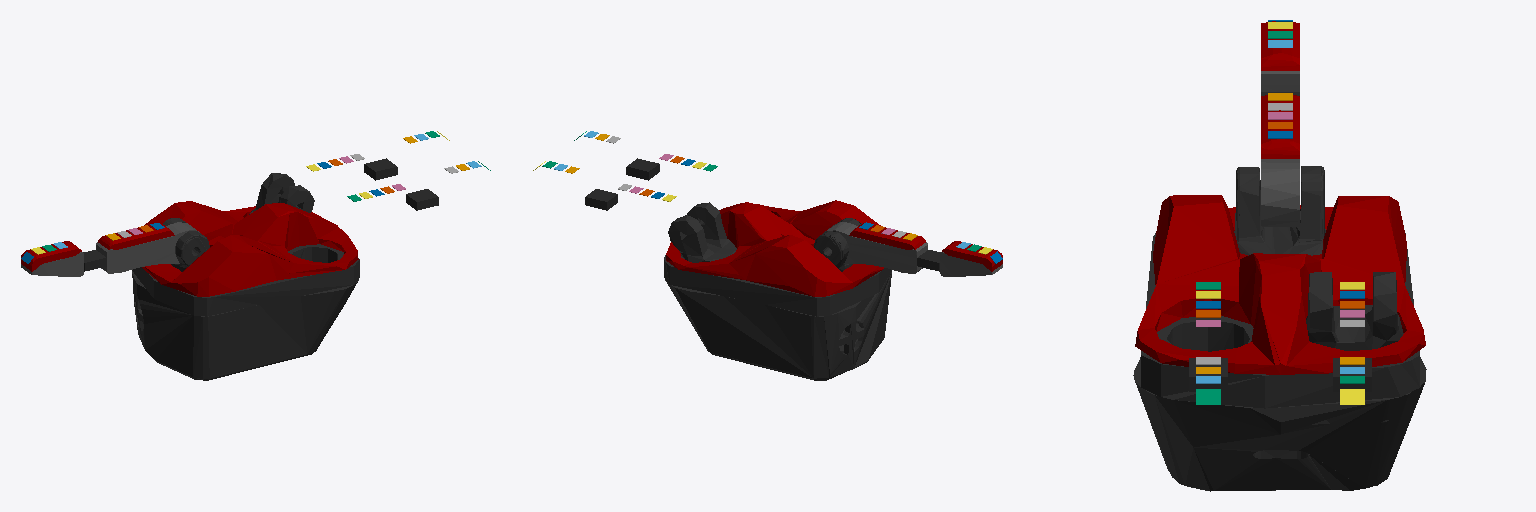
--- Facts derived from the render (not from the file) ---
3 views of the same robot in one strip: view 1: azimuth 30°, elevation 25°; view 2: azimuth 150°, elevation 25°; view 3: azimuth 270°, elevation 25° (orthographic).
Model rhr_flex_model with 53 links and 52 joints (35 revolute, 17 fixed), rooted at base_link, posed every joint at zero.
Visible links, largest first — view 1: base_link, pad, proximal_3, swivel_2, distal_3, proximal_pad_3, distal_pad_3, flex_link_2; view 2: base_link, pad, swivel_2, proximal_3, distal_3, proximal_pad_3, distal_pad_3, flex_link_1; view 3: base_link, pad, swivel_2, proximal_3, proximal_pad_3, distal_pad_3, distal_3, flex_link_1, flex_link_2.
Boxes of the visible links, x1,y1,x2,y2 form: base_link: (132, 218, 359, 380); pad: (142, 201, 358, 296); proximal_3: (96, 222, 199, 273); swivel_2: (249, 173, 314, 214); distal_3: (21, 252, 83, 276); proximal_pad_3: (98, 223, 174, 249); distal_pad_3: (21, 241, 81, 271); flex_link_2: (364, 158, 397, 180); base_link: (664, 218, 891, 380); pad: (666, 200, 883, 296); swivel_2: (668, 202, 736, 262); proximal_3: (825, 222, 927, 273); distal_3: (940, 252, 1002, 276); proximal_pad_3: (849, 223, 925, 249); distal_pad_3: (942, 241, 1002, 271); flex_link_1: (626, 158, 659, 180); base_link: (1133, 166, 1426, 491); pad: (1135, 195, 1425, 374); swivel_2: (1306, 272, 1403, 350); proximal_3: (1261, 159, 1299, 226); proximal_pad_3: (1261, 95, 1299, 158); distal_pad_3: (1261, 21, 1299, 70); distal_3: (1261, 71, 1299, 91); flex_link_1: (1189, 358, 1227, 391); flex_link_2: (1333, 358, 1371, 391).
Bounding box of the posed robot: 0.3219 × 0.1054 × 0.1002 m (x, y, z).
Meshes: 16 distinct files referenced, 7 mesh visuals loaded (7 binary STL); not drawn: 9 (reference not matched to a file when rendering).

The robot description file, URDF, robot "rhr_flex_model":
<?xml version="1.0" ?>

<robot name="rhr_flex_model">

  <link name="flex_link_1">
    <visual>
      <origin xyz="0.008 0 0"/>
      <geometry>
        <box size="0.016 0.014 0.006"/>
      </geometry>
      <material name="dark gray">
        <color rgba="0.2 0.2 .2 1"/>
      </material>
    </visual>

    <inertial>
      <origin xyz="0.008 0 0"/>
      <mass value="0.002688"/>
      <inertia ixx="0.000000051968" ixy="0.0" ixz="0.0" iyy="0.000000065408" iyz="0.0" izz="0.000000101248"/>
    </inertial>
    <collision>
      <origin xyz="0.008 0 0"/>
      <geometry>
        <box size="0.016 0.014 0.006"/>
      </geometry>
    </collision>
  </link>
  <link name="flex_link_2">
    <visual>
      <origin xyz="0.008 0 0"/>
      <geometry>
        <box size="0.016 0.014 0.006"/>
      </geometry>
      <material name="dark gray">
        <color rgba="0.2 0.2 .2 1"/>
      </material>
    </visual>
    <!-- Mabel -->
    <inertial>
      <origin xyz="0.008 0 0"/>
      <mass value="0.002688"/>
      <inertia ixx="0.000000051968" ixy="0.0" ixz="0.0" iyy="0.000000065408" iyz="0.0" izz="0.000000101248"/>
    </inertial>
    <!-- Mabel -->
    <collision>
      <origin xyz="0.008 0 0"/>
      <geometry>
        <box size="0.016 0.014 0.006"/>
      </geometry>
    </collision>
  </link>
  <link name="flex_link_3">
    <visual>
      <origin xyz="0.008 0 0"/>
      <geometry>
        <box size="0.016 0.014 0.006"/>
      </geometry>
      <material name="dark gray">
        <color rgba="0.2 0.2 .2 1"/>
      </material>
    </visual>
    <!-- Mabel -->
    <inertial>
      <origin xyz="0.008 0 0"/>
      <mass value="0.002688"/>
      <inertia ixx="0.000000051968" ixy="0.0" ixz="0.0" iyy="0.000000065408" iyz="0.0" izz="0.000000101248"/>
    </inertial>
    <!-- Mabel -->
    <collision>
      <origin xyz="0.008 0 0"/>
      <geometry>
        <box size="0.016 0.014 0.006"/>
      </geometry>
    </collision>
  </link>
  <joint name="flex_joint_1" type="fixed">
    <parent link="proximal_1"/>
    <child link="flex_link_1"/>
    <origin xyz="0.06 0 0.003"/>
    <axis xyz="0 -1 0"/>
  </joint>
  <joint name="flex_joint_2" type="fixed">
    <parent link="proximal_2"/>
    <child link="flex_link_2"/>
    <origin xyz="0.06 0 0.003"/>
    <axis xyz="0 -1 0"/>
  </joint>
  <joint name="flex_joint_3" type="fixed">
    <parent link="proximal_3"/>
    <child link="flex_link_3"/>
    <origin xyz="0.06 0 0.003"/>
    <axis xyz="0 -1 0"/>
  </joint>
  <link name="base_link">
    <visual>
      <origin rpy="0 0 0" xyz="0 0 0"/>
      <geometry>
        <mesh filename="package://meshes/base_link.stl"/>
      </geometry>
      <material name="">
        <color rgba="0.22 0.22 0.22 1"/>
      </material>
    </visual>
    <collision>
      <origin rpy="0 0 0" xyz="0.014 0 0.051"/>
      <geometry>
        <box size="0.128 0.099 0.085"/>
      </geometry>
    </collision>
    <!-- Mabel -->
    <inertial>
      <origin xyz="0.006633 -0.000192 0.042664"/>
      <!-- Mesh Volume from MeshLab -->
      <mass value="0.271197"/>
      <inertia ixx="0.00035015" ixy="-0.00000237" ixz="-0.00000830" iyy="0.00052174" iyz="-0.00000051" izz="0.00061823"/>
    </inertial>
  </link>
  <link name="pad">
    <visual>
      <origin rpy="0 0 0" xyz="0 0 0"/>
      <geometry>
        <mesh filename="package://meshes/pad.stl"/>
      </geometry>
      <material name="">
        <color rgba="0.6 0.0 0.0 1"/>
        <!--    <color rgba="0.686 0.0706 0.8039 1"/> -->
      </material>
    </visual>
    <!-- Mabel -->
    <collision>
      <origin rpy="0 0 0" xyz="0 0 0"/>
      <geometry>
        <mesh filename="package://meshes/pad.stl"/>
      </geometry>
    </collision>
    <!-- Mabel -->
    <inertial>
      <!-- Center of Mass from MeshLab -->
      <origin xyz="0.000001 0.008858 0.013059"/>
      <!-- Mesh Volume from MeshLab -->
      <mass value="0.113819"/>
      <inertia ixx="0.00010653" ixy="-0.00000000" ixz="-0.00000001" iyy="0.00018331" iyz="-0.00000149" izz="0.00008642"/>
    </inertial>
  </link>
  <joint name="pad_joint" type="fixed">
    <origin rpy="1.5707963267949 5.55111512312578E-17 -1.5707963267949" xyz="0.02 0 0.063"/>
    <parent link="base_link"/>
    <child link="pad"/>
    <axis xyz="0 0 0"/>
  </joint>
  <link name="swivel_1">
    <visual>
      <origin rpy="0 0 0" xyz="0 0 0"/>
      <geometry>
        <mesh filename="package://meshes/swivel_1.stl"/>
      </geometry>
      <material name="">
        <color rgba="0.22 0.22 0.22 1"/>
      </material>
    </visual>
    <!-- Mabel -->
    <collision>
      <origin rpy="0 0 0" xyz="0 0 0"/>
      <geometry>
        <mesh filename="package://meshes/swivel_1.stl"/>
      </geometry>
    </collision>
    <!-- Mabel -->
    <inertial>
      <!-- Center of Mass from MeshLab -->
      <origin xyz="0.005259 -0.000001 0.011236"/>
      <!-- Mesh Volume from MeshLab -->
      <mass value="0.012584"/>
      <inertia ixx="0.00000232" ixy="0.00000000" ixz="-0.00000041" iyy="0.00000177" iyz="0.00000000" izz="0.00000237"/>
    </inertial>
  </link>
  <joint name="preshape_1" type="revolute">
    <!-- Mabel: None of the joints are really continuous. They should all be
      revolute.-->
    <!--type="continuous"-->
    <origin rpy="6.75550818663469E-16 1.97993848419069E-16 -2.77555756156289E-16" xyz="0.0503973683071414 -0.026 0.063"/>
    <parent link="base_link"/>
    <child link="swivel_1"/>
    <axis xyz="0 0 -1"/>
    <!-- Mabel. Limits from reflex/src/reflex/reflex_base_services.py PRESHAPE_MAX -->
    <limit effort="2.5" lower="0" upper="1.6" velocity="1.0"/>
  </joint>
  <link name="proximal_1">
    <visual>
      <origin rpy="0 0 0" xyz="0 0 0"/>
      <geometry>
        <mesh filename="package://meshes/proximal_1.stl"/>
      </geometry>
      <material name="">
        <color rgba="0.35 0.35 0.35 1"/>
      </material>
    </visual>
    <!-- Mabel -->
    <collision>
      <origin rpy="0 0 0" xyz="0 0 0"/>
      <geometry>
        <mesh filename="package://meshes/proximal_1.stl"/>
      </geometry>
    </collision>
    <!-- Mabel -->
    <inertial>
      <!-- Center of Mass from MeshLab -->
      <origin xyz="0.024094 0.000000 0.000819"/>
      <!-- Mesh Volume from MeshLab -->
      <mass value="0.017012"/>
      <inertia ixx="0.00000076" ixy="-0.00000000" ixz="-0.00000023" iyy="0.00000735" iyz="-0.00000000" izz="0.00000714"/>
    </inertial>
  </link>
  <joint name="proximal_joint_1" type="revolute">
    <!--type="continuous"-->
    <origin rpy="-6.20039667432211E-16 2.40507565059625E-17 2.22044604925031E-16" xyz="0.01 0 0.0186"/>
    <parent link="swivel_1"/>
    <child link="proximal_1"/>
    <axis xyz="0 -1 0"/>
    <!-- Mabel -->
    <limit effort="2.5" lower="0" upper="3.14" velocity="1.0"/>
  </joint>
  <link name="proximal_pad_1">
    <visual>
      <origin rpy="0 0 0" xyz="0 0 0"/>
      <geometry>
        <mesh filename="package://meshes/proximal_pad_1.stl"/>
      </geometry>
      <material name="">
        <color rgba="0.6 0.0 0.0 1"/>
        <!--    <color rgba="0.686 0.0706 0.8039 1"/> -->
      </material>
    </visual>
    <!-- Mabel -->
    <collision>
      <origin rpy="0 0 0" xyz="0 0 0"/>
      <geometry>
        <mesh filename="package://meshes/proximal_pad_1.stl"/>
      </geometry>
    </collision>
    <!-- Mabel -->
    <inertial>
      <!-- Center of Mass from MeshLab -->
      <origin xyz="0.000000 0.012215 -0.034120"/>
      <!-- Mesh Volume from MeshLab -->
      <mass value="0.003393"/>
      <inertia ixx="0.00000057" ixy="-0.0" ixz="-0.0" iyy="0.00000061" iyz="0.0" izz="0.00000006"/>
    </inertial>
  </link>
  <joint name="prox1_pad_joint" type="fixed">
    <origin rpy="1.5707963267949 0 -1.5707963267949" xyz="0 0 0"/>
    <parent link="proximal_1"/>
    <child link="proximal_pad_1"/>
    <axis xyz="0 0 0"/>
  </joint>
  <link name="distal_1">
    <visual>
      <origin rpy="0 0 0" xyz="0 0 0"/>
      <geometry>
        <mesh filename="package://meshes/distal_1.stl"/>
      </geometry>
      <material name="">
        <color rgba="0.35 0.35 0.35 1"/>
      </material>
    </visual>
    <!-- Mabel -->
    <collision>
      <origin rpy="0 0 0" xyz="0 0 0"/>
      <geometry>
        <mesh filename="package://meshes/distal_1.stl"/>
      </geometry>
    </collision>
    <!-- Mabel -->
    <inertial>
      <!-- Center of Mass from MeshLab -->
      <origin xyz="0.015422 -0.000000 0.000877"/>
      <!-- Mesh Volume from MeshLab -->
      <mass value="0.005978"/>
      <inertia ixx="0.00000019" ixy="-0.0" ixz="-0.00000006" iyy="0.00000070" iyz="0.0" izz="0.00000071"/>
    </inertial>
  </link>
  <joint name="distal_joint_1" type="revolute">
    <!--type="continuous"-->
    <!--origin
      xyz="0.0760000000000001} 0 0.00250000000000002"
      rpy="0 0 0" />
    <parent
      link="proximal_1" /-->
    <!-- Mabel, after adding rigid link btw proximal and distal links. Since
       distal link cannot have two parents (violates SDF and Gazebo rules),
       flex link and proximal link cannot both be distal's parent. So we need
       to link in serial like so, not in parallel:
         proximal -> prox_to_flex_joint -> flex_link -> flex_to_distal_joint
           -> distal.
       We'll ust the distal_joint_# as the joint from flex to distal.
       Joint from prox to flex, and flex_link, are at top of file.
     -->
    <origin rpy="0 0 0" xyz="0.016 0 0.00250000000000002"/>
    <parent link="flex_link_1"/>
    <child link="distal_1"/>
    <axis xyz="0 -1 0"/>
    <!-- Mabel -->
    <limit effort="0.25" lower="0" upper="2.74" velocity="1.0"/>
  </joint>
  <link name="distal_pad_1">
    <visual>
      <origin rpy="0 0 0" xyz="0 0 0"/>
      <geometry>
        <mesh filename="package://meshes/distal_pad_1.stl"/>
      </geometry>
      <material name="">
        <color rgba="0.6 0.0 0.0 1"/>
        <!--    <color rgba="0.686 0.0706 0.8039 1"/> -->
      </material>
    </visual>
    <!-- Mabel -->
    <collision>
      <origin rpy="0 0 0" xyz="0 0 0"/>
      <geometry>
        <mesh filename="package://meshes/distal_pad_1.stl"/>
      </geometry>
    </collision>
    <!-- Mabel -->
    <inertial>
      <!-- Center of Mass from MeshLab -->
      <origin xyz="0.000000 0.011884 -0.097534"/>
      <!-- Mesh Volume from MeshLab -->
      <mass value="0.002782"/>
      <inertia ixx="0.00000030" ixy="-0.0" ixz="0.0" iyy="0.00000034" iyz="-0.00000002" izz="0.00000005"/>
    </inertial>
  </link>
  <joint name="dist1_pad_joint" type="fixed">
    <origin rpy="1.5707963267949 0 -1.5707963267949" xyz="-0.0760000000000001 0 -0.0025"/>
    <parent link="distal_1"/>
    <child link="distal_pad_1"/>
    <axis xyz="0 0 0"/>
  </joint>
  <link name="swivel_2">
    <visual>
      <origin rpy="0 0 0" xyz="0 0 0"/>
      <geometry>
        <mesh filename="package://meshes/swivel_2.stl"/>
      </geometry>
      <material name="">
        <color rgba="0.22 0.22 0.22 1"/>
      </material>
    </visual>
    <!-- Mabel -->
    <collision>
      <origin rpy="0 0 0" xyz="0 0 0"/>
      <geometry>
        <mesh filename="package://meshes/swivel_2.stl"/>
      </geometry>
    </collision>
    <!-- Mabel -->
    <inertial>
      <!-- Center of Mass from MeshLab -->
      <origin xyz="0.005259 -0.000001 0.011236"/>
      <!-- Mesh Volume from MeshLab -->
      <mass value="0.012584"/>
      <inertia ixx="0.00000232" ixy="0.0" ixz="-0.00000041" iyy="0.00000177" iyz="0.0" izz="0.00000237"/>
    </inertial>
  </link>
  <joint name="preshape_2" type="revolute">
    <!--type="continuous"-->
    <origin rpy="1.22459340959228E-15 -7.33448407631817E-16 -1.66533453693773E-16" xyz="0.0503973683071413 0.0259999999999999 0.063"/>
    <parent link="base_link"/>
    <child link="swivel_2"/>
    <axis xyz="0 0 -1"/>
    <!-- Mabel. Limits from reflex/src/reflex/reflex_base_services.py PRESHAPE_MAX -->
    <limit effort="2.5" lower="-1.6" upper="0" velocity="1.0"/>
  </joint>
  <link name="proximal_2">
    <visual>
      <origin rpy="0 0 0" xyz="0 0 0"/>
      <geometry>
        <mesh filename="package://meshes/proximal_2.stl"/>
      </geometry>
      <material name="">
        <color rgba="0.35 0.35 0.35 1"/>
      </material>
    </visual>
    <!-- Mabel -->
    <collision>
      <origin rpy="0 0 0" xyz="0 0 0"/>
      <geometry>
        <mesh filename="package://meshes/proximal_2.stl"/>
      </geometry>
    </collision>
    <!-- Mabel -->
    <inertial>
      <!-- Center of Mass from MeshLab -->
      <origin xyz="0.024094 0.000000 0.000819"/>
      <!-- Mesh Volume from MeshLab -->
      <mass value="0.017012"/>
      <inertia ixx="0.00000076" ixy="-0.0" ixz="-0.00000023" iyy="0.00000735" iyz="-0.0" izz="0.00000714"/>
    </inertial>
  </link>
  <joint name="proximal_joint_2" type="revolute">
    <!--type="continuous"-->
    <origin rpy="-1.16908225836102E-15 9.55493012556849E-16 1.11022302462515E-16" xyz="0.01 0 0.0186"/>
    <parent link="swivel_2"/>
    <child link="proximal_2"/>
    <axis xyz="0 -1 0"/>
    <!-- Mabel -->
    <limit effort="2.5" lower="0" upper="3.14" velocity="1.0"/>
  </joint>
  <link name="proximal_pad_2">
    <visual>
      <origin rpy="0 0 0" xyz="0 0 0"/>
      <geometry>
        <mesh filename="package://meshes/proximal_pad_2.stl"/>
      </geometry>
      <material name="">
        <color rgba="0.6 0.0 0.0 1"/>
        <!--    <color rgba="0.686 0.0706 0.8039 1"/> -->
      </material>
    </visual>
    <!-- Mabel -->
    <collision>
      <origin rpy="0 0 0" xyz="0 0 0"/>
      <geometry>
        <mesh filename="package://meshes/proximal_pad_2.stl"/>
      </geometry>
    </collision>
    <!-- Mabel -->
    <inertial>
      <!-- Center of Mass from MeshLab -->
      <origin xyz="0.000000 0.012215 -0.034120"/>
      <!-- Mesh Volume from MeshLab -->
      <mass value="0.003393"/>
      <inertia ixx="0.00000057" ixy="-0.0" ixz="-0.0" iyy="0.00000061" iyz="0.0" izz="0.00000006"/>
    </inertial>
  </link>
  <joint name="prox2_pad_joint" type="fixed">
    <origin rpy="1.5707963267949 0 -1.5707963267949" xyz="0 0 0"/>
    <parent link="proximal_2"/>
    <child link="proximal_pad_2"/>
    <axis xyz="0 0 0"/>
  </joint>
  <link name="distal_2">
    <visual>
      <origin rpy="0 0 0" xyz="0 0 0"/>
      <geometry>
        <mesh filename="package://meshes/distal_2.stl"/>
      </geometry>
      <material name="">
        <color rgba="0.35 0.35 0.35 1"/>
      </material>
    </visual>
    <!-- Mabel -->
    <collision>
      <origin rpy="0 0 0" xyz="0 0 0"/>
      <geometry>
        <mesh filename="package://meshes/distal_2.stl"/>
      </geometry>
    </collision>
    <!-- Mabel -->
    <inertial>
      <!-- Center of Mass from MeshLab -->
      <origin xyz="0.015422 -0.000000 0.000877"/>
      <!-- Mesh Volume from MeshLab -->
      <mass value="0.005978"/>
      <inertia ixx="0.00000019" ixy="-0.0" ixz="-0.00000006" iyy="0.00000070" iyz="0.0" izz="0.00000071"/>
    </inertial>
  </link>
  <joint name="distal_joint_2" type="revolute">
    <!--type="continuous"-->
    <!--origin
      xyz="0.0760000000000001 0 0.00249999999999997"
      rpy="0 0 0" />
    <parent
      link="proximal_2" /-->
    <!-- Mabel -->
    <origin rpy="0 0 0" xyz="0.016 0 0.00249999999999997"/>
    <parent link="flex_link_2"/>
    <child link="distal_2"/>
    <axis xyz="0 -1 0"/>
    <!-- Mabel -->
    <limit effort="0.25" lower="0" upper="2.74" velocity="1.0"/>
  </joint>
  <link name="distal_pad_2">
    <visual>
      <origin rpy="0 0 0" xyz="0 0 0"/>
      <geometry>
        <mesh filename="package://meshes/distal_pad_2.stl"/>
      </geometry>
      <material name="">
        <color rgba="0.6 0.0 0.0 1"/>
        <!--    <color rgba="0.686 0.0706 0.8039 1"/> -->
      </material>
    </visual>
    <!-- Mabel -->
    <collision>
      <origin rpy="0 0 0" xyz="0 0 0"/>
      <geometry>
        <mesh filename="package://meshes/distal_pad_2.stl"/>
      </geometry>
    </collision>
    <!-- Mabel -->
    <inertial>
      <!-- Center of Mass from MeshLab -->
      <origin xyz="0.000000 0.011884 -0.097534"/>
      <!-- Mesh Volume from MeshLab -->
      <mass value="0.002782"/>
      <inertia ixx="0.00000030" ixy="-0.0" ixz="0.0" iyy="0.00000034" iyz="-0.00000002" izz="0.00000005"/>
    </inertial>
  </link>
  <joint name="dist2_pad_joint" type="fixed">
    <origin rpy="1.5707963267949 0 -1.5707963267949" xyz="-0.0760000000000001 0 -0.0025"/>
    <parent link="distal_2"/>
    <child link="distal_pad_2"/>
    <axis xyz="0 0 0"/>
  </joint>
  <link name="proximal_3">
    <visual>
      <origin rpy="0 0 0" xyz="0 0 0"/>
      <geometry>
        <mesh filename="package://meshes/proximal_3.stl"/>
      </geometry>
      <material name="">
        <color rgba="0.35 0.35 0.35 1"/>
      </material>
    </visual>
    <!-- Mabel -->
    <collision>
      <origin rpy="0 0 0" xyz="0 0 0"/>
      <geometry>
        <mesh filename="package://meshes/proximal_3.stl"/>
      </geometry>
    </collision>
    <!-- Mabel -->
    <inertial>
      <!-- Center of Mass from MeshLab -->
      <origin xyz="0.024094 0.000000 0.000819"/>
      <!-- Mesh Volume from MeshLab -->
      <mass value="0.017012"/>
      <inertia ixx="0.00000076" ixy="-0.0" ixz="-0.00000023" iyy="0.00000735" iyz="-0.0" izz="0.00000714"/>
    </inertial>
  </link>
  <joint name="proximal_joint_3" type="revolute">
    <!--type="continuous"-->
    <origin rpy="-5.55111512312578E-17 -2.22044604925031E-16 3.14159265358979" xyz="-0.0299999999999996 0 0.0816000000000002"/>
    <parent link="base_link"/>
    <child link="proximal_3"/>
    <axis xyz="0 -1 0"/>
    <!-- Mabel -->
    <limit effort="2.5" lower="0" upper="3.14" velocity="1.0"/>
  </joint>
  <link name="proximal_pad_3">
    <visual>
      <origin rpy="0 0 0" xyz="0 0 0"/>
      <geometry>
        <mesh filename="package://meshes/proximal_pad_3.stl"/>
      </geometry>
      <material name="">
        <color rgba="0.6 0.0 0.0 1"/>
        <!--    <color rgba="0.686 0.0706 0.8039 1"/> -->
      </material>
    </visual>
    <!-- Mabel -->
    <collision>
      <origin rpy="0 0 0" xyz="0 0 0"/>
      <geometry>
        <mesh filename="package://meshes/proximal_pad_3.stl"/>
      </geometry>
    </collision>
    <!-- Mabel -->
    <inertial>
      <!-- Center of Mass from MeshLab -->
      <origin xyz="0.000000 0.012215 -0.034120"/>
      <!-- Mesh Volume from MeshLab -->
      <mass value="0.003393"/>
      <inertia ixx="0.00000057" ixy="-0.0" ixz="-0.0" iyy="0.00000061" iyz="0.0" izz="0.00000006"/>
    </inertial>
  </link>
  <joint name="prox3_pad_joint" type="fixed">
    <origin rpy="1.5707963267949 1.22460635382238E-16 -1.5707963267949" xyz="0 0 0"/>
    <parent link="proximal_3"/>
    <child link="proximal_pad_3"/>
    <axis xyz="0 0 0"/>
  </joint>
  <link name="distal_3">
    <visual>
      <origin rpy="0 0 0" xyz="0 0 0"/>
      <geometry>
        <mesh filename="package://meshes/distal_3.stl"/>
      </geometry>
      <material name="">
        <color rgba="0.35 0.35 0.35 1"/>
      </material>
    </visual>
    <!-- Mabel -->
    <collision>
      <origin rpy="0 0 0" xyz="0 0 0"/>
      <geometry>
        <mesh filename="package://meshes/distal_3.stl"/>
      </geometry>
    </collision>
    <!-- Mabel -->
    <inertial>
      <!-- Center of Mass from MeshLab -->
      <origin xyz="0.015422 -0.000000 0.000877"/>
      <!-- Mesh Volume from MeshLab -->
      <mass value="0.005978"/>
      <inertia ixx="0.00000019" ixy="-0.0" ixz="-0.00000006" iyy="0.00000070" iyz="0.0" izz="0.00000071"/>
    </inertial>
  </link>
  <joint name="distal_joint_3" type="revolute">
    <!--type="continuous"-->
    <!--origin
      xyz="0.0760000000000001 0 0.0025"
      rpy="-1.48887961834512E-45 -1.0995850059156E-76 -7.38531841236285E-32" />
    <parent
      link="proximal_3" /-->
    <!-- Mabel -->
    <origin rpy="0 0 0" xyz="0.016 0 0.0025"/>
    <parent link="flex_link_3"/>
    <child link="distal_3"/>
    <axis xyz="0 -1 0"/>
    <!-- Mabel -->
    <limit effort="0.25" lower="0" upper="2.74" velocity="1.0"/>
  </joint>
  <link name="distal_pad_3">
    <visual>
      <origin rpy="0 0 0" xyz="0 0 0"/>
      <geometry>
        <mesh filename="package://meshes/distal_pad_3.stl"/>
      </geometry>
      <material name="">
        <color rgba="0.6 0.0 0.0 1"/>
        <!--    <color rgba="0.686 0.0706 0.8039 1"/> -->
      </material>
    </visual>
    <!-- Mabel -->
    <collision>
      <origin rpy="0 0 0" xyz="0 0 0"/>
      <geometry>
        <mesh filename="package://meshes/distal_pad_3.stl"/>
      </geometry>
    </collision>
    <!-- Mabel -->
    <inertial>
      <!-- Center of Mass from MeshLab -->
      <origin xyz="0.000000 0.011884 -0.097534"/>
      <!-- Mesh Volume from MeshLab -->
      <mass value="0.002782"/>
      <inertia ixx="0.00000030" ixy="-0.0" ixz="0.0" iyy="0.00000034" iyz="-0.00000002" izz="0.00000005"/>
    </inertial>
  </link>
  <joint name="dist3_pad_joint" type="fixed">
    <origin rpy="1.5707963267949 -1.22460635382238E-16 -1.5707963267949" xyz="-0.0760000000000001 0 -0.0025"/>
    <parent link="distal_3"/>
    <child link="distal_pad_3"/>
    <axis xyz="0 0 0"/>
  </joint>
  <!-- ################ ################ ################ ################ ################ ################ -->
  <!-- ################ THIS SECTION LINKS THE MARKERS (TACTILE DATA) TO THE CAD MESH ################ -->
  <!-- ################ COPY AND PASTE THIS FROM urdf/homemade_marker_portion_urdf  ################ -->
  <!-- ################ ################ ################ ################ ################ ################ -->
  <joint name="base_tactile_joint" type="fixed">
    <origin rpy="0 0 0" xyz="0 0 0"/>
    <parent link="base_link"/>
    <child link="base_tactile"/>
  </joint>
  <link name="base_tactile"/>
  <link name="proximal_1_tactile">
    <!-- Mabel: Added nonzero mass so link doesn't disappear in SDF -->
    <inertial>
      <mass value="0.001"/>
      <inertia ixx="0.000000001" ixy="0.0" ixz="0.0" iyy="0.000000001" iyz="0.0" izz="0.000000001"/>
    </inertial>
  </link>
  <!-- Mabel: Defining as explicit revolute, with 0 limits, so child link shows
    up explicitly in SDF. Original all _tactile_joint's were type fixed.
    But defining as revolute means someone (hand_visualizer.cpp) needs to
    publish the joint values of these joints to /joint_states, otherwise
    they will not have a tf!!!
    Changing back to fixed type. `.` I don't know if I need them to be
    revolute. Why did I want them to show up in sdf anyway? Probably just
    for debugging when I was still developing this file to be Gazebo-legal!
    Probably don't need these to be revolute. -->
  <!--joint name="proximal_1_tactile_joint" type="revolute"-->
  <joint name="proximal_1_tactile_joint" type="fixed">
    <origin rpy="0 0 0" xyz="0 0 0"/>
    <parent link="proximal_1"/>
    <child link="proximal_1_tactile"/>
    <!--limit effort="0" velocity="0" lower="0" upper="0" /-->
  </joint>
  <!--joint name="proximal_2_tactile_joint" type="revolute"-->
  <joint name="proximal_2_tactile_joint" type="fixed">
    <origin rpy="0 0 0" xyz="0 0 0"/>
    <parent link="proximal_2"/>
    <child link="proximal_2_tactile"/>
    <!--limit effort="0" velocity="0" lower="0" upper="0" /-->
  </joint>
  <link name="proximal_2_tactile">
    <!-- Mabel: Added nonzero mass so link doesn't disappear in SDF -->
    <inertial>
      <mass value="0.001"/>
      <inertia ixx="0.000000001" ixy="0.0" ixz="0.0" iyy="0.000000001" iyz="0.0" izz="0.000000001"/>
    </inertial>
  </link>
  <!-- 24 Jan 2017: Changing back to fixed, so they show up in robot tree -->
  <!--joint name="proximal_3_tactile_joint" type="revolute"-->
  <joint name="proximal_3_tactile_joint" type="fixed">
    <origin rpy="0 0 0" xyz="0 0 0"/>
    <parent link="proximal_3"/>
    <child link="proximal_3_tactile"/>
    <!--limit effort="0" velocity="0" lower="0" upper="0" /-->
  </joint>
  <link name="proximal_3_tactile">
    <!-- Mabel: Added nonzero mass so link doesn't disappear in SDF -->
    <inertial>
      <mass value="0.001"/>
      <inertia ixx="0.000000001" ixy="0.0" ixz="0.0" iyy="0.000000001" iyz="0.0" izz="0.000000001"/>
    </inertial>
  </link>
  <!-- 24 Jan 2017: Changing back to fixed, so they show up in robot tree -->
  <!--joint name="distal_1_tactile_joint" type="revolute"-->
  <joint name="distal_1_tactile_joint" type="fixed">
    <origin rpy="0 0 0" xyz="0 0 0"/>
    <parent link="distal_1"/>
    <child link="distal_1_tactile"/>
    <!--limit effort="0" velocity="0" lower="0" upper="0" /-->
  </joint>
  <link name="distal_1_tactile">
    <!-- Mabel: Added nonzero mass so link doesn't disappear in SDF -->
    <inertial>
      <mass value="0.001"/>
      <inertia ixx="0.000000001" ixy="0.0" ixz="0.0" iyy="0.000000001" iyz="0.0" izz="0.000000001"/>
    </inertial>
  </link>
  <!-- 24 Jan 2017: Why isn't this revolute??? Did I just forget about it?? TODO
    That is why in rosrun tf view_frames frames.pdf, distal_2 and distal_3 have
    children distal_2_tactile and distal_3_tactile, but distal_1 doesn't!!!!
    The fixed type joints are directly taken as joint values. But the revolute
    type joints require a publisher for the joint values onto /joint_states,
    which is hand_visualizer_sim.cpp's job. -->
  <joint name="distal_2_tactile_joint" type="fixed">
    <origin rpy="0 0 0" xyz="0 0 0"/>
    <parent link="distal_2"/>
    <child link="distal_2_tactile"/>
  </joint>
  <link name="distal_2_tactile">
    <!-- Mabel: Added nonzero mass so link doesn't disappear in SDF -->
    <inertial>
      <mass value="0.001"/>
      <inertia ixx="0.000000001" ixy="0.0" ixz="0.0" iyy="0.000000001" iyz="0.0" izz="0.000000001"/>
    </inertial>
  </link>
  <!-- 24 Jan 2017: Why isn't this revolute??? Did I just forget about it?? TODO -->
  <joint name="distal_3_tactile_joint" type="fixed">
    <origin rpy="0 0 0" xyz="0 0 0"/>
    <parent link="distal_3"/>
    <child link="distal_3_tactile"/>
  </joint>
  <link name="distal_3_tactile">
    <!-- Mabel: Added nonzero mass so link doesn't disappear in SDF -->
    <inertial>
      <mass value="0.001"/>
      <inertia ixx="0.000000001" ixy="0.0" ixz="0.0" iyy="0.000000001" iyz="0.0" izz="0.000000001"/>
    </inertial>
  </link>
  <!-- Mabel: Positions for the tactile sensors, so can put simulated touch
      sensors in each link for Gazebo.
    Calculation of positions are copied from
      reflex_visualizer/src/hand_visualizer.cpp . This may need to be adjusted
      accordingly for final release hand (non-beta). -->
  <!-- Positions of sensors 1 to 5, all on proximal link -->
  <!-- sensor_id is 1-based. hand_visualizer.cpp has 0-based index.
    Here, we need to define the position for child sensor.
    "index" in hand_visualizer.cpp is 1 to 4.
    "sensor_id" here is 2 to 5. This is the 
      sensor for which we are defining the position here.
    So to substitute for "index" in cpp file's formula, put sensor_id-1 here,
      in order to define positions for 2 to 5. -->
  <!-- Explicitly making revolute with limits 0, so SDF doesn't ignore this
     joint. -->
  <joint name="prox_1_tactile_to_sensor_1" type="revolute">
    <origin xyz="0.019 0 0.015"/>
    <parent link="proximal_1_tactile"/>
    <child link="Proximal_1/sensor_1"/>
    <limit effort="0" lower="0" upper="0" velocity="0"/>
  </joint>
  <joint name="prox_1_tactile_to_sensor_2" type="revolute">
    <origin xyz="0.027 0 0.015"/>
    <parent link="proximal_1_tactile"/>
    <child link="Proximal_1/sensor_2"/>
    <limit effort="0" lower="0" upper="0" velocity="0"/>
  </joint>
  <joint name="prox_1_tactile_to_sensor_3" type="revolute">
    <origin xyz="0.035 0 0.015"/>
    <parent link="proximal_1_tactile"/>
    <child link="Proximal_1/sensor_3"/>
    <limit effort="0" lower="0" upper="0" velocity="0"/>
  </joint>
  <joint name="prox_1_tactile_to_sensor_4" type="revolute">
    <origin xyz="0.043 0 0.015"/>
    <parent link="proximal_1_tactile"/>
    <child link="Proximal_1/sensor_4"/>
    <limit effort="0" lower="0" upper="0" velocity="0"/>
  </joint>
  <joint name="prox_1_tactile_to_sensor_5" type="revolute">
    <origin xyz="0.051000000000000004 0 0.015"/>
    <parent link="proximal_1_tactile"/>
    <child link="Proximal_1/sensor_5"/>
    <limit effort="0" lower="0" upper="0" velocity="0"/>
  </joint>
  <joint name="prox_2_tactile_to_sensor_1" type="revolute">
    <origin xyz="0.019 0 0.015"/>
    <parent link="proximal_2_tactile"/>
    <child link="Proximal_2/sensor_1"/>
    <limit effort="0" lower="0" upper="0" velocity="0"/>
  </joint>
  <joint name="prox_2_tactile_to_sensor_2" type="revolute">
    <origin xyz="0.027 0 0.015"/>
    <parent link="proximal_2_tactile"/>
    <child link="Proximal_2/sensor_2"/>
    <limit effort="0" lower="0" upper="0" velocity="0"/>
  </joint>
  <joint name="prox_2_tactile_to_sensor_3" type="revolute">
    <origin xyz="0.035 0 0.015"/>
    <parent link="proximal_2_tactile"/>
    <child link="Proximal_2/sensor_3"/>
    <limit effort="0" lower="0" upper="0" velocity="0"/>
  </joint>
  <joint name="prox_2_tactile_to_sensor_4" type="revolute">
    <origin xyz="0.043 0 0.015"/>
    <parent link="proximal_2_tactile"/>
    <child link="Proximal_2/sensor_4"/>
    <limit effort="0" lower="0" upper="0" velocity="0"/>
  </joint>
  <joint name="prox_2_tactile_to_sensor_5" type="revolute">
    <origin xyz="0.051000000000000004 0 0.015"/>
    <parent link="proximal_2_tactile"/>
    <child link="Proximal_2/sensor_5"/>
    <limit effort="0" lower="0" upper="0" velocity="0"/>
  </joint>
  <joint name="prox_3_tactile_to_sensor_1" type="revolute">
    <origin xyz="0.019 0 0.015"/>
    <parent link="proximal_3_tactile"/>
    <child link="Proximal_3/sensor_1"/>
    <limit effort="0" lower="0" upper="0" velocity="0"/>
  </joint>
  <joint name="prox_3_tactile_to_sensor_2" type="revolute">
    <origin xyz="0.027 0 0.015"/>
    <parent link="proximal_3_tactile"/>
    <child link="Proximal_3/sensor_2"/>
    <limit effort="0" lower="0" upper="0" velocity="0"/>
  </joint>
  <joint name="prox_3_tactile_to_sensor_3" type="revolute">
    <origin xyz="0.035 0 0.015"/>
    <parent link="proximal_3_tactile"/>
    <child link="Proximal_3/sensor_3"/>
    <limit effort="0" lower="0" upper="0" velocity="0"/>
  </joint>
  <joint name="prox_3_tactile_to_sensor_4" type="revolute">
    <origin xyz="0.043 0 0.015"/>
    <parent link="proximal_3_tactile"/>
    <child link="Proximal_3/sensor_4"/>
    <limit effort="0" lower="0" upper="0" velocity="0"/>
  </joint>
  <joint name="prox_3_tactile_to_sensor_5" type="revolute">
    <origin xyz="0.051000000000000004 0 0.015"/>
    <parent link="proximal_3_tactile"/>
    <child link="Proximal_3/sensor_5"/>
    <limit effort="0" lower="0" upper="0" velocity="0"/>
  </joint>
  <!-- Positions of sensors 6 to 9, all on distal link -->
  <joint name="dist_1_tactile_to_sensor_1" type="revolute">
    <!-- This should be -6, by reasoning. But it shows that distal CoM
          in Gazebo is one sensor too far toward finger tip. So had to do -7.
          Must be a mistake somewhere else, but I can't figure out where.
        sensor_id+5 offset is because I originally numbered distal sensors
          6-9, but changed to 1-4. -->
    <origin xyz="0.013499999999999998 0 0.009"/>
    <parent link="distal_1_tactile"/>
    <child link="Distal_1/sensor_1"/>
    <limit effort="0" lower="0" upper="0" velocity="0"/>
  </joint>
  <joint name="dist_1_tactile_to_sensor_2" type="revolute">
    <!-- This should be -6, by reasoning. But it shows that distal CoM
          in Gazebo is one sensor too far toward finger tip. So had to do -7.
          Must be a mistake somewhere else, but I can't figure out where.
        sensor_id+5 offset is because I originally numbered distal sensors
          6-9, but changed to 1-4. -->
    <origin xyz="0.0215 0 0.009"/>
    <parent link="distal_1_tactile"/>
    <child link="Distal_1/sensor_2"/>
    <limit effort="0" lower="0" upper="0" velocity="0"/>
  </joint>
  <joint name="dist_1_tactile_to_sensor_3" type="revolute">
    <!-- This should be -6, by reasoning. But it shows that distal CoM
          in Gazebo is one sensor too far toward finger tip. So had to do -7.
          Must be a mistake somewhere else, but I can't figure out where.
        sensor_id+5 offset is because I originally numbered distal sensors
          6-9, but changed to 1-4. -->
    <origin xyz="0.0295 0 0.009"/>
    <parent link="distal_1_tactile"/>
    <child link="Distal_1/sensor_3"/>
    <limit effort="0" lower="0" upper="0" velocity="0"/>
  </joint>
  <joint name="dist_1_tactile_to_sensor_4" type="revolute">
    <!-- This should be -6, by reasoning. But it shows that distal CoM
          in Gazebo is one sensor too far toward finger tip. So had to do -7.
          Must be a mistake somewhere else, but I can't figure out where.
        sensor_id+5 offset is because I originally numbered distal sensors
          6-9, but changed to 1-4. -->
    <origin xyz="0.0375 0 0.009"/>
    <parent link="distal_1_tactile"/>
    <child link="Distal_1/sensor_4"/>
    <limit effort="0" lower="0" upper="0" velocity="0"/>
  </joint>
  <joint name="dist_2_tactile_to_sensor_1" type="revolute">
    <!-- This should be -6, by reasoning. But it shows that distal CoM
          in Gazebo is one sensor too far toward finger tip. So had to do -7.
          Must be a mistake somewhere else, but I can't figure out where.
        sensor_id+5 offset is because I originally numbered distal sensors
          6-9, but changed to 1-4. -->
    <origin xyz="0.013499999999999998 0 0.009"/>
    <parent link="distal_2_tactile"/>
    <child link="Distal_2/sensor_1"/>
    <limit effort="0" lower="0" upper="0" velocity="0"/>
  </joint>
  <joint name="dist_2_tactile_to_sensor_2" type="revolute">
    <!-- This should be -6, by reasoning. But it shows that distal CoM
          in Gazebo is one sensor too far toward finger tip. So had to do -7.
          Must be a mistake somewhere else, but I can't figure out where.
        sensor_id+5 offset is because I originally numbered distal sensors
          6-9, but changed to 1-4. -->
    <origin xyz="0.0215 0 0.009"/>
    <parent link="distal_2_tactile"/>
    <child link="Distal_2/sensor_2"/>
    <limit effort="0" lower="0" upper="0" velocity="0"/>
  </joint>
  <joint name="dist_2_tactile_to_sensor_3" type="revolute">
    <!-- This should be -6, by reasoning. But it shows that distal CoM
          in Gazebo is one sensor too far toward finger tip. So had to do -7.
          Must be a mistake somewhere else, but I can't figure out where.
        sensor_id+5 offset is because I originally numbered distal sensors
          6-9, but changed to 1-4. -->
    <origin xyz="0.0295 0 0.009"/>
    <parent link="distal_2_tactile"/>
    <child link="Distal_2/sensor_3"/>
    <limit effort="0" lower="0" upper="0" velocity="0"/>
  </joint>
  <joint name="dist_2_tactile_to_sensor_4" type="revolute">
    <!-- This should be -6, by reasoning. But it shows that distal CoM
          in Gazebo is one sensor too far toward finger tip. So had to do -7.
          Must be a mistake somewhere else, but I can't figure out where.
        sensor_id+5 offset is because I originally numbered distal sensors
          6-9, but changed to 1-4. -->
    <origin xyz="0.0375 0 0.009"/>
    <parent link="distal_2_tactile"/>
    <child link="Distal_2/sensor_4"/>
    <limit effort="0" lower="0" upper="0" velocity="0"/>
  </joint>
  <joint name="dist_3_tactile_to_sensor_1" type="revolute">
    <!-- This should be -6, by reasoning. But it shows that distal CoM
          in Gazebo is one sensor too far toward finger tip. So had to do -7.
          Must be a mistake somewhere else, but I can't figure out where.
        sensor_id+5 offset is because I originally numbered distal sensors
          6-9, but changed to 1-4. -->
    <origin xyz="0.013499999999999998 0 0.009"/>
    <parent link="distal_3_tactile"/>
    <child link="Distal_3/sensor_1"/>
    <limit effort="0" lower="0" upper="0" velocity="0"/>
  </joint>
  <joint name="dist_3_tactile_to_sensor_2" type="revolute">
    <!-- This should be -6, by reasoning. But it shows that distal CoM
          in Gazebo is one sensor too far toward finger tip. So had to do -7.
          Must be a mistake somewhere else, but I can't figure out where.
        sensor_id+5 offset is because I originally numbered distal sensors
          6-9, but changed to 1-4. -->
    <origin xyz="0.0215 0 0.009"/>
    <parent link="distal_3_tactile"/>
    <child link="Distal_3/sensor_2"/>
    <limit effort="0" lower="0" upper="0" velocity="0"/>
  </joint>
  <joint name="dist_3_tactile_to_sensor_3" type="revolute">
    <!-- This should be -6, by reasoning. But it shows that distal CoM
          in Gazebo is one sensor too far toward finger tip. So had to do -7.
          Must be a mistake somewhere else, but I can't figure out where.
        sensor_id+5 offset is because I originally numbered distal sensors
          6-9, but changed to 1-4. -->
    <origin xyz="0.0295 0 0.009"/>
    <parent link="distal_3_tactile"/>
    <child link="Distal_3/sensor_3"/>
    <limit effort="0" lower="0" upper="0" velocity="0"/>
  </joint>
  <joint name="dist_3_tactile_to_sensor_4" type="revolute">
    <!-- This should be -6, by reasoning. But it shows that distal CoM
          in Gazebo is one sensor too far toward finger tip. So had to do -7.
          Must be a mistake somewhere else, but I can't figure out where.
        sensor_id+5 offset is because I originally numbered distal sensors
          6-9, but changed to 1-4. -->
    <origin xyz="0.0375 0 0.009"/>
    <parent link="distal_3_tactile"/>
    <child link="Distal_3/sensor_4"/>
    <limit effort="0" lower="0" upper="0" velocity="0"/>
  </joint>
  <!-- Define the actual sensors, as links positioned at 0 0 0 (real positions
     already defined by joints). -->
  <link name="Proximal_1/sensor_1">
    <!-- This mass and inertia are tested to be stable in Gazebo. If you
        increase by 10, the finger will start jumping very bad when moved.
        Sensor mass is very very small!-->
    <inertial>
      <mass value="0.00001"/>
      <inertia ixx="0.00000000001" ixy="0.0" ixz="0.0" iyy="0.00000000001" iyz="0.0" izz="0.00000000001"/>
    </inertial>
    <visual>
      <origin rpy="0 0 0" xyz="0 0 0.00045"/>
      <geometry>
        <box size="0.006 0.009 0.0003"/>
      </geometry>
    </visual>
    <collision>
      <origin rpy="0 0 0" xyz="0 0 0.00045"/>
      <geometry>
        <box size="0.006 0.009 0.0003"/>
      </geometry>
    </collision>
  </link>
  <link name="Proximal_1/sensor_2">
    <!-- This mass and inertia are tested to be stable in Gazebo. If you
        increase by 10, the finger will start jumping very bad when moved.
        Sensor mass is very very small!-->
    <inertial>
      <mass value="0.00001"/>
      <inertia ixx="0.00000000001" ixy="0.0" ixz="0.0" iyy="0.00000000001" iyz="0.0" izz="0.00000000001"/>
    </inertial>
    <visual>
      <origin rpy="0 0 0" xyz="0 0 0.00045"/>
      <geometry>
        <box size="0.006 0.009 0.0003"/>
      </geometry>
    </visual>
    <collision>
      <origin rpy="0 0 0" xyz="0 0 0.00045"/>
      <geometry>
        <box size="0.006 0.009 0.0003"/>
      </geometry>
    </collision>
  </link>
  <link name="Proximal_1/sensor_3">
    <!-- This mass and inertia are tested to be stable in Gazebo. If you
        increase by 10, the finger will start jumping very bad when moved.
        Sensor mass is very very small!-->
    <inertial>
      <mass value="0.00001"/>
      <inertia ixx="0.00000000001" ixy="0.0" ixz="0.0" iyy="0.00000000001" iyz="0.0" izz="0.00000000001"/>
    </inertial>
    <visual>
      <origin rpy="0 0 0" xyz="0 0 0.00045"/>
      <geometry>
        <box size="0.006 0.009 0.0003"/>
      </geometry>
    </visual>
    <collision>
      <origin rpy="0 0 0" xyz="0 0 0.00045"/>
      <geometry>
        <box size="0.006 0.009 0.0003"/>
      </geometry>
    </collision>
  </link>
  <link name="Proximal_1/sensor_4">
    <!-- This mass and inertia are tested to be stable in Gazebo. If you
        increase by 10, the finger will start jumping very bad when moved.
        Sensor mass is very very small!-->
    <inertial>
      <mass value="0.00001"/>
      <inertia ixx="0.00000000001" ixy="0.0" ixz="0.0" iyy="0.00000000001" iyz="0.0" izz="0.00000000001"/>
    </inertial>
    <visual>
      <origin rpy="0 0 0" xyz="0 0 0.00045"/>
      <geometry>
        <box size="0.006 0.009 0.0003"/>
      </geometry>
    </visual>
    <collision>
      <origin rpy="0 0 0" xyz="0 0 0.00045"/>
      <geometry>
        <box size="0.006 0.009 0.0003"/>
      </geometry>
    </collision>
  </link>
  <link name="Proximal_1/sensor_5">
    <!-- This mass and inertia are tested to be stable in Gazebo. If you
        increase by 10, the finger will start jumping very bad when moved.
        Sensor mass is very very small!-->
    <inertial>
      <mass value="0.00001"/>
      <inertia ixx="0.00000000001" ixy="0.0" ixz="0.0" iyy="0.00000000001" iyz="0.0" izz="0.00000000001"/>
    </inertial>
    <visual>
      <origin rpy="0 0 0" xyz="0 0 0.00045"/>
      <geometry>
        <box size="0.006 0.009 0.0003"/>
      </geometry>
    </visual>
    <collision>
      <origin rpy="0 0 0" xyz="0 0 0.00045"/>
      <geometry>
        <box size="0.006 0.009 0.0003"/>
      </geometry>
    </collision>
  </link>
  <link name="Distal_1/sensor_1">
    <!-- This mass and inertia are tested to be stable in Gazebo. If you
        increase by 10, the finger will start jumping very bad when moved.
        Sensor mass is very very small!-->
    <inertial>
      <mass value="0.00001"/>
      <inertia ixx="0.00000000001" ixy="0.0" ixz="0.0" iyy="0.00000000001" iyz="0.0" izz="0.00000000001"/>
    </inertial>
    <visual>
      <origin rpy="0 0 0" xyz="0 0 0.004"/>
      <geometry>
        <box size="0.006 0.009 0.0003"/>
      </geometry>
    </visual>
    <collision>
      <origin rpy="0 0 0" xyz="0 0 0.004"/>
      <geometry>
        <box size="0.006 0.009 0.0003"/>
      </geometry>
    </collision>
  </link>
  <link name="Distal_1/sensor_2">
    <!-- This mass and inertia are tested to be stable in Gazebo. If you
        increase by 10, the finger will start jumping very bad when moved.
        Sensor mass is very very small!-->
    <inertial>
      <mass value="0.00001"/>
      <inertia ixx="0.00000000001" ixy="0.0" ixz="0.0" iyy="0.00000000001" iyz="0.0" izz="0.00000000001"/>
    </inertial>
    <visual>
      <origin rpy="0 0 0" xyz="0 0 0.004"/>
      <geometry>
        <box size="0.006 0.009 0.0003"/>
      </geometry>
    </visual>
    <collision>
      <origin rpy="0 0 0" xyz="0 0 0.004"/>
      <geometry>
        <box size="0.006 0.009 0.0003"/>
      </geometry>
    </collision>
  </link>
  <link name="Distal_1/sensor_3">
    <!-- This mass and inertia are tested to be stable in Gazebo. If you
        increase by 10, the finger will start jumping very bad when moved.
        Sensor mass is very very small!-->
    <inertial>
      <mass value="0.00001"/>
      <inertia ixx="0.00000000001" ixy="0.0" ixz="0.0" iyy="0.00000000001" iyz="0.0" izz="0.00000000001"/>
    </inertial>
    <visual>
      <origin rpy="0 0 0" xyz="0 0 0.004"/>
      <geometry>
        <box size="0.006 0.009 0.0003"/>
      </geometry>
    </visual>
    <collision>
      <origin rpy="0 0 0" xyz="0 0 0.004"/>
      <geometry>
        <box size="0.006 0.009 0.0003"/>
      </geometry>
    </collision>
  </link>
  <link name="Distal_1/sensor_4">
    <!-- This mass and inertia are tested to be stable in Gazebo. If you
        increase by 10, the finger will start jumping very bad when moved.
        Sensor mass is very very small!-->
    <inertial>
      <mass value="0.00001"/>
      <inertia ixx="0.00000000001" ixy="0.0" ixz="0.0" iyy="0.00000000001" iyz="0.0" izz="0.00000000001"/>
    </inertial>
    <visual>
      <origin rpy="0 0.78539816339 0" xyz="0 0 0.001"/>
      <geometry>
        <box size="0.006 0.009 0.0003"/>
      </geometry>
    </visual>
    <collision>
      <origin rpy="0 0.78539816339 0" xyz="0 0 0.001"/>
      <geometry>
        <box size="0.006 0.009 0.0003"/>
      </geometry>
    </collision>
  </link>
  <link name="Proximal_2/sensor_1">
    <!-- This mass and inertia are tested to be stable in Gazebo. If you
        increase by 10, the finger will start jumping very bad when moved.
        Sensor mass is very very small!-->
    <inertial>
      <mass value="0.00001"/>
      <inertia ixx="0.00000000001" ixy="0.0" ixz="0.0" iyy="0.00000000001" iyz="0.0" izz="0.00000000001"/>
    </inertial>
    <visual>
      <origin rpy="0 0 0" xyz="0 0 0.00045"/>
      <geometry>
        <box size="0.006 0.009 0.0003"/>
      </geometry>
    </visual>
    <collision>
      <origin rpy="0 0 0" xyz="0 0 0.00045"/>
      <geometry>
        <box size="0.006 0.009 0.0003"/>
      </geometry>
    </collision>
  </link>
  <link name="Proximal_2/sensor_2">
    <!-- This mass and inertia are tested to be stable in Gazebo. If you
        increase by 10, the finger will start jumping very bad when moved.
        Sensor mass is very very small!-->
    <inertial>
      <mass value="0.00001"/>
      <inertia ixx="0.00000000001" ixy="0.0" ixz="0.0" iyy="0.00000000001" iyz="0.0" izz="0.00000000001"/>
    </inertial>
    <visual>
      <origin rpy="0 0 0" xyz="0 0 0.00045"/>
      <geometry>
        <box size="0.006 0.009 0.0003"/>
      </geometry>
    </visual>
    <collision>
      <origin rpy="0 0 0" xyz="0 0 0.00045"/>
      <geometry>
        <box size="0.006 0.009 0.0003"/>
      </geometry>
    </collision>
  </link>
  <link name="Proximal_2/sensor_3">
    <!-- This mass and inertia are tested to be stable in Gazebo. If you
        increase by 10, the finger will start jumping very bad when moved.
        Sensor mass is very very small!-->
    <inertial>
      <mass value="0.00001"/>
      <inertia ixx="0.00000000001" ixy="0.0" ixz="0.0" iyy="0.00000000001" iyz="0.0" izz="0.00000000001"/>
    </inertial>
    <visual>
      <origin rpy="0 0 0" xyz="0 0 0.00045"/>
      <geometry>
        <box size="0.006 0.009 0.0003"/>
      </geometry>
    </visual>
    <collision>
      <origin rpy="0 0 0" xyz="0 0 0.00045"/>
      <geometry>
        <box size="0.006 0.009 0.0003"/>
      </geometry>
    </collision>
  </link>
  <link name="Proximal_2/sensor_4">
    <!-- This mass and inertia are tested to be stable in Gazebo. If you
        increase by 10, the finger will start jumping very bad when moved.
        Sensor mass is very very small!-->
    <inertial>
      <mass value="0.00001"/>
      <inertia ixx="0.00000000001" ixy="0.0" ixz="0.0" iyy="0.00000000001" iyz="0.0" izz="0.00000000001"/>
    </inertial>
    <visual>
      <origin rpy="0 0 0" xyz="0 0 0.00045"/>
      <geometry>
        <box size="0.006 0.009 0.0003"/>
      </geometry>
    </visual>
    <collision>
      <origin rpy="0 0 0" xyz="0 0 0.00045"/>
      <geometry>
        <box size="0.006 0.009 0.0003"/>
      </geometry>
    </collision>
  </link>
  <link name="Proximal_2/sensor_5">
    <!-- This mass and inertia are tested to be stable in Gazebo. If you
        increase by 10, the finger will start jumping very bad when moved.
        Sensor mass is very very small!-->
    <inertial>
      <mass value="0.00001"/>
      <inertia ixx="0.00000000001" ixy="0.0" ixz="0.0" iyy="0.00000000001" iyz="0.0" izz="0.00000000001"/>
    </inertial>
    <visual>
      <origin rpy="0 0 0" xyz="0 0 0.00045"/>
      <geometry>
        <box size="0.006 0.009 0.0003"/>
      </geometry>
    </visual>
    <collision>
      <origin rpy="0 0 0" xyz="0 0 0.00045"/>
      <geometry>
        <box size="0.006 0.009 0.0003"/>
      </geometry>
    </collision>
  </link>
  <link name="Distal_2/sensor_1">
    <!-- This mass and inertia are tested to be stable in Gazebo. If you
        increase by 10, the finger will start jumping very bad when moved.
        Sensor mass is very very small!-->
    <inertial>
      <mass value="0.00001"/>
      <inertia ixx="0.00000000001" ixy="0.0" ixz="0.0" iyy="0.00000000001" iyz="0.0" izz="0.00000000001"/>
    </inertial>
    <visual>
      <origin rpy="0 0 0" xyz="0 0 0.004"/>
      <geometry>
        <box size="0.006 0.009 0.0003"/>
      </geometry>
    </visual>
    <collision>
      <origin rpy="0 0 0" xyz="0 0 0.004"/>
      <geometry>
        <box size="0.006 0.009 0.0003"/>
      </geometry>
    </collision>
  </link>
  <link name="Distal_2/sensor_2">
    <!-- This mass and inertia are tested to be stable in Gazebo. If you
        increase by 10, the finger will start jumping very bad when moved.
        Sensor mass is very very small!-->
    <inertial>
      <mass value="0.00001"/>
      <inertia ixx="0.00000000001" ixy="0.0" ixz="0.0" iyy="0.00000000001" iyz="0.0" izz="0.00000000001"/>
    </inertial>
    <visual>
      <origin rpy="0 0 0" xyz="0 0 0.004"/>
      <geometry>
        <box size="0.006 0.009 0.0003"/>
      </geometry>
    </visual>
    <collision>
      <origin rpy="0 0 0" xyz="0 0 0.004"/>
      <geometry>
        <box size="0.006 0.009 0.0003"/>
      </geometry>
    </collision>
  </link>
  <link name="Distal_2/sensor_3">
    <!-- This mass and inertia are tested to be stable in Gazebo. If you
        increase by 10, the finger will start jumping very bad when moved.
        Sensor mass is very very small!-->
    <inertial>
      <mass value="0.00001"/>
      <inertia ixx="0.00000000001" ixy="0.0" ixz="0.0" iyy="0.00000000001" iyz="0.0" izz="0.00000000001"/>
    </inertial>
    <visual>
      <origin rpy="0 0 0" xyz="0 0 0.004"/>
      <geometry>
        <box size="0.006 0.009 0.0003"/>
      </geometry>
    </visual>
    <collision>
      <origin rpy="0 0 0" xyz="0 0 0.004"/>
      <geometry>
        <box size="0.006 0.009 0.0003"/>
      </geometry>
    </collision>
  </link>
  <link name="Distal_2/sensor_4">
    <!-- This mass and inertia are tested to be stable in Gazebo. If you
        increase by 10, the finger will start jumping very bad when moved.
        Sensor mass is very very small!-->
    <inertial>
      <mass value="0.00001"/>
      <inertia ixx="0.00000000001" ixy="0.0" ixz="0.0" iyy="0.00000000001" iyz="0.0" izz="0.00000000001"/>
    </inertial>
    <visual>
      <origin rpy="0 0.78539816339 0" xyz="0 0 0.001"/>
      <geometry>
        <box size="0.006 0.009 0.0003"/>
      </geometry>
    </visual>
    <collision>
      <origin rpy="0 0.78539816339 0" xyz="0 0 0.001"/>
      <geometry>
        <box size="0.006 0.009 0.0003"/>
      </geometry>
    </collision>
  </link>
  <link name="Proximal_3/sensor_1">
    <!-- This mass and inertia are tested to be stable in Gazebo. If you
        increase by 10, the finger will start jumping very bad when moved.
        Sensor mass is very very small!-->
    <inertial>
      <mass value="0.00001"/>
      <inertia ixx="0.00000000001" ixy="0.0" ixz="0.0" iyy="0.00000000001" iyz="0.0" izz="0.00000000001"/>
    </inertial>
    <visual>
      <origin rpy="0 0 0" xyz="0 0 0.00045"/>
      <geometry>
        <box size="0.006 0.009 0.0003"/>
      </geometry>
    </visual>
    <collision>
      <origin rpy="0 0 0" xyz="0 0 0.00045"/>
      <geometry>
        <box size="0.006 0.009 0.0003"/>
      </geometry>
    </collision>
  </link>
  <link name="Proximal_3/sensor_2">
    <!-- This mass and inertia are tested to be stable in Gazebo. If you
        increase by 10, the finger will start jumping very bad when moved.
        Sensor mass is very very small!-->
    <inertial>
      <mass value="0.00001"/>
      <inertia ixx="0.00000000001" ixy="0.0" ixz="0.0" iyy="0.00000000001" iyz="0.0" izz="0.00000000001"/>
    </inertial>
    <visual>
      <origin rpy="0 0 0" xyz="0 0 0.00045"/>
      <geometry>
        <box size="0.006 0.009 0.0003"/>
      </geometry>
    </visual>
    <collision>
      <origin rpy="0 0 0" xyz="0 0 0.00045"/>
      <geometry>
        <box size="0.006 0.009 0.0003"/>
      </geometry>
    </collision>
  </link>
  <link name="Proximal_3/sensor_3">
    <!-- This mass and inertia are tested to be stable in Gazebo. If you
        increase by 10, the finger will start jumping very bad when moved.
        Sensor mass is very very small!-->
    <inertial>
      <mass value="0.00001"/>
      <inertia ixx="0.00000000001" ixy="0.0" ixz="0.0" iyy="0.00000000001" iyz="0.0" izz="0.00000000001"/>
    </inertial>
    <visual>
      <origin rpy="0 0 0" xyz="0 0 0.00045"/>
      <geometry>
        <box size="0.006 0.009 0.0003"/>
      </geometry>
    </visual>
    <collision>
      <origin rpy="0 0 0" xyz="0 0 0.00045"/>
      <geometry>
        <box size="0.006 0.009 0.0003"/>
      </geometry>
    </collision>
  </link>
  <link name="Proximal_3/sensor_4">
    <!-- This mass and inertia are tested to be stable in Gazebo. If you
        increase by 10, the finger will start jumping very bad when moved.
        Sensor mass is very very small!-->
    <inertial>
      <mass value="0.00001"/>
      <inertia ixx="0.00000000001" ixy="0.0" ixz="0.0" iyy="0.00000000001" iyz="0.0" izz="0.00000000001"/>
    </inertial>
    <visual>
      <origin rpy="0 0 0" xyz="0 0 0.00045"/>
      <geometry>
        <box size="0.006 0.009 0.0003"/>
      </geometry>
    </visual>
    <collision>
      <origin rpy="0 0 0" xyz="0 0 0.00045"/>
      <geometry>
        <box size="0.006 0.009 0.0003"/>
      </geometry>
    </collision>
  </link>
  <link name="Proximal_3/sensor_5">
    <!-- This mass and inertia are tested to be stable in Gazebo. If you
        increase by 10, the finger will start jumping very bad when moved.
        Sensor mass is very very small!-->
    <inertial>
      <mass value="0.00001"/>
      <inertia ixx="0.00000000001" ixy="0.0" ixz="0.0" iyy="0.00000000001" iyz="0.0" izz="0.00000000001"/>
    </inertial>
    <visual>
      <origin rpy="0 0 0" xyz="0 0 0.00045"/>
      <geometry>
        <box size="0.006 0.009 0.0003"/>
      </geometry>
    </visual>
    <collision>
      <origin rpy="0 0 0" xyz="0 0 0.00045"/>
      <geometry>
        <box size="0.006 0.009 0.0003"/>
      </geometry>
    </collision>
  </link>
  <link name="Distal_3/sensor_1">
    <!-- This mass and inertia are tested to be stable in Gazebo. If you
        increase by 10, the finger will start jumping very bad when moved.
        Sensor mass is very very small!-->
    <inertial>
      <mass value="0.00001"/>
      <inertia ixx="0.00000000001" ixy="0.0" ixz="0.0" iyy="0.00000000001" iyz="0.0" izz="0.00000000001"/>
    </inertial>
    <visual>
      <origin rpy="0 0 0" xyz="0 0 0.004"/>
      <geometry>
        <box size="0.006 0.009 0.0003"/>
      </geometry>
    </visual>
    <collision>
      <origin rpy="0 0 0" xyz="0 0 0.004"/>
      <geometry>
        <box size="0.006 0.009 0.0003"/>
      </geometry>
    </collision>
  </link>
  <link name="Distal_3/sensor_2">
    <!-- This mass and inertia are tested to be stable in Gazebo. If you
        increase by 10, the finger will start jumping very bad when moved.
        Sensor mass is very very small!-->
    <inertial>
      <mass value="0.00001"/>
      <inertia ixx="0.00000000001" ixy="0.0" ixz="0.0" iyy="0.00000000001" iyz="0.0" izz="0.00000000001"/>
    </inertial>
    <visual>
      <origin rpy="0 0 0" xyz="0 0 0.004"/>
      <geometry>
        <box size="0.006 0.009 0.0003"/>
      </geometry>
    </visual>
    <collision>
      <origin rpy="0 0 0" xyz="0 0 0.004"/>
      <geometry>
        <box size="0.006 0.009 0.0003"/>
      </geometry>
    </collision>
  </link>
  <link name="Distal_3/sensor_3">
    <!-- This mass and inertia are tested to be stable in Gazebo. If you
        increase by 10, the finger will start jumping very bad when moved.
        Sensor mass is very very small!-->
    <inertial>
      <mass value="0.00001"/>
      <inertia ixx="0.00000000001" ixy="0.0" ixz="0.0" iyy="0.00000000001" iyz="0.0" izz="0.00000000001"/>
    </inertial>
    <visual>
      <origin rpy="0 0 0" xyz="0 0 0.004"/>
      <geometry>
        <box size="0.006 0.009 0.0003"/>
      </geometry>
    </visual>
    <collision>
      <origin rpy="0 0 0" xyz="0 0 0.004"/>
      <geometry>
        <box size="0.006 0.009 0.0003"/>
      </geometry>
    </collision>
  </link>
  <link name="Distal_3/sensor_4">
    <!-- This mass and inertia are tested to be stable in Gazebo. If you
        increase by 10, the finger will start jumping very bad when moved.
        Sensor mass is very very small!-->
    <inertial>
      <mass value="0.00001"/>
      <inertia ixx="0.00000000001" ixy="0.0" ixz="0.0" iyy="0.00000000001" iyz="0.0" izz="0.00000000001"/>
    </inertial>
    <visual>
      <origin rpy="0 0.78539816339 0" xyz="0 0 0.001"/>
      <geometry>
        <box size="0.006 0.009 0.0003"/>
      </geometry>
    </visual>
    <collision>
      <origin rpy="0 0.78539816339 0" xyz="0 0 0.001"/>
      <geometry>
        <box size="0.006 0.009 0.0003"/>
      </geometry>
    </collision>
  </link>
</robot>
